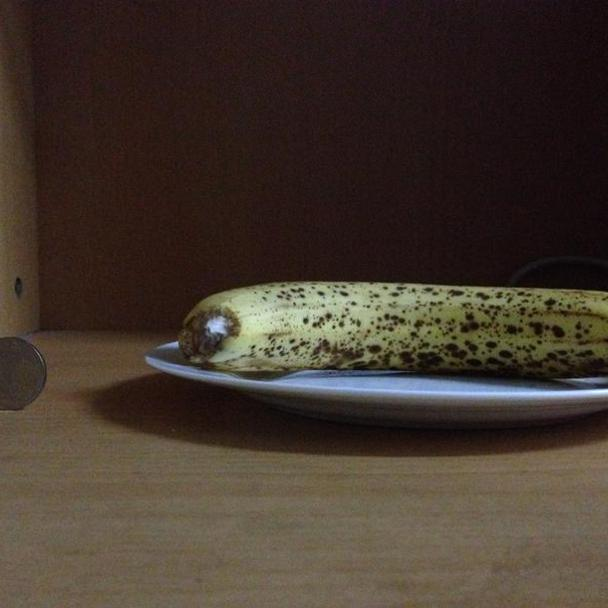banana: (169, 270, 608, 386)
